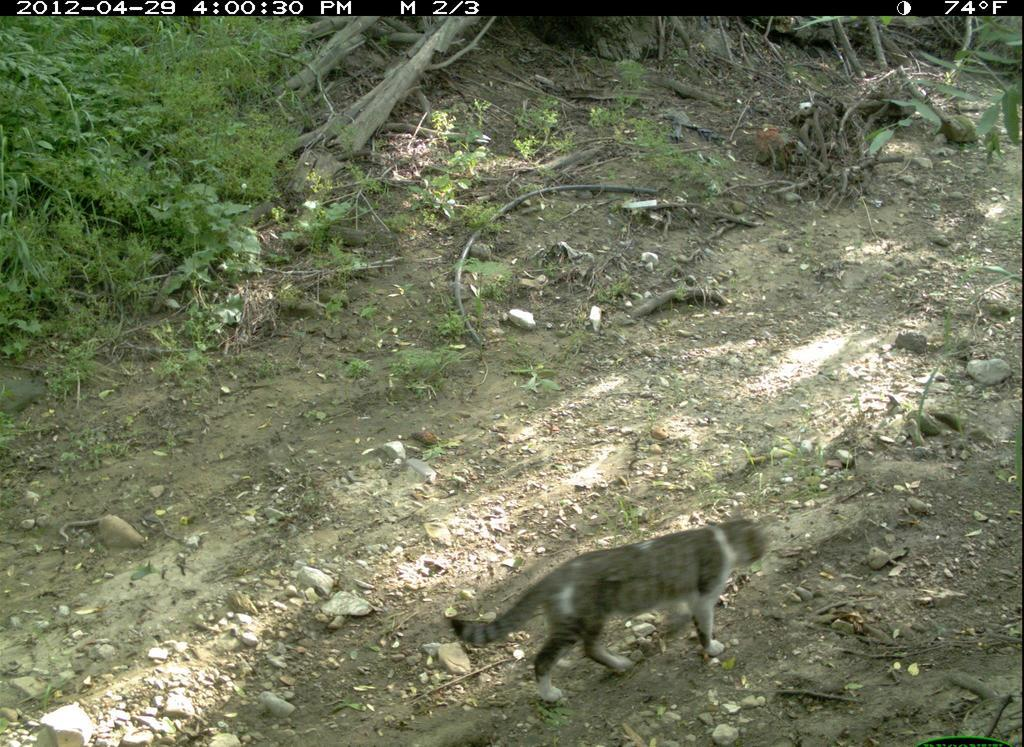cat: (449, 507, 774, 708)
